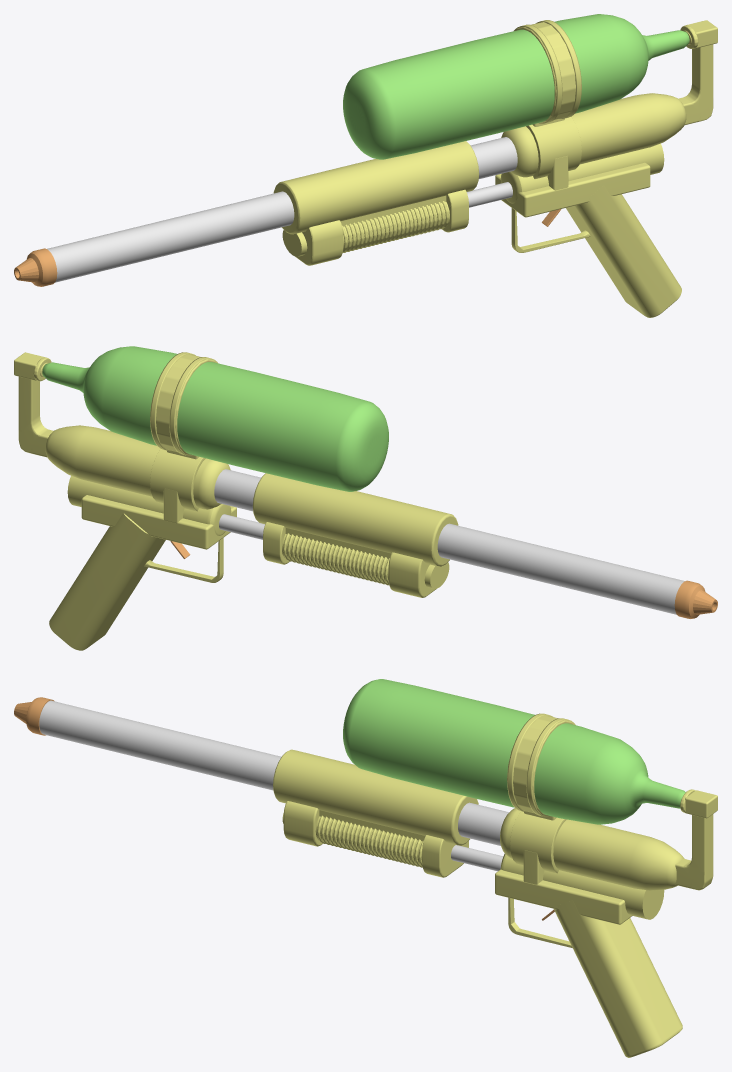
The model's file is !3SUPERSOAKER.fbx.
3 views of the same model, one above another, from view 1: azimuth 30°, elevation 25°; view 2: azimuth 150°, elevation 25°; view 3: azimuth 330°, elevation 25° (orthographic).
Visible parts, largest first — view 1: pCylinder45; view 2: pCylinder45; view 3: pCylinder45.
Part boxes in pixels (x1=…): pCylinder45: x1=14, y1=14, x2=717, y2=317; pCylinder45: x1=14, y1=346, x2=717, y2=650; pCylinder45: x1=14, y1=679, x2=717, y2=1057.
Size of the model in its own units: 45.73 by 19.29 by 5.71.
